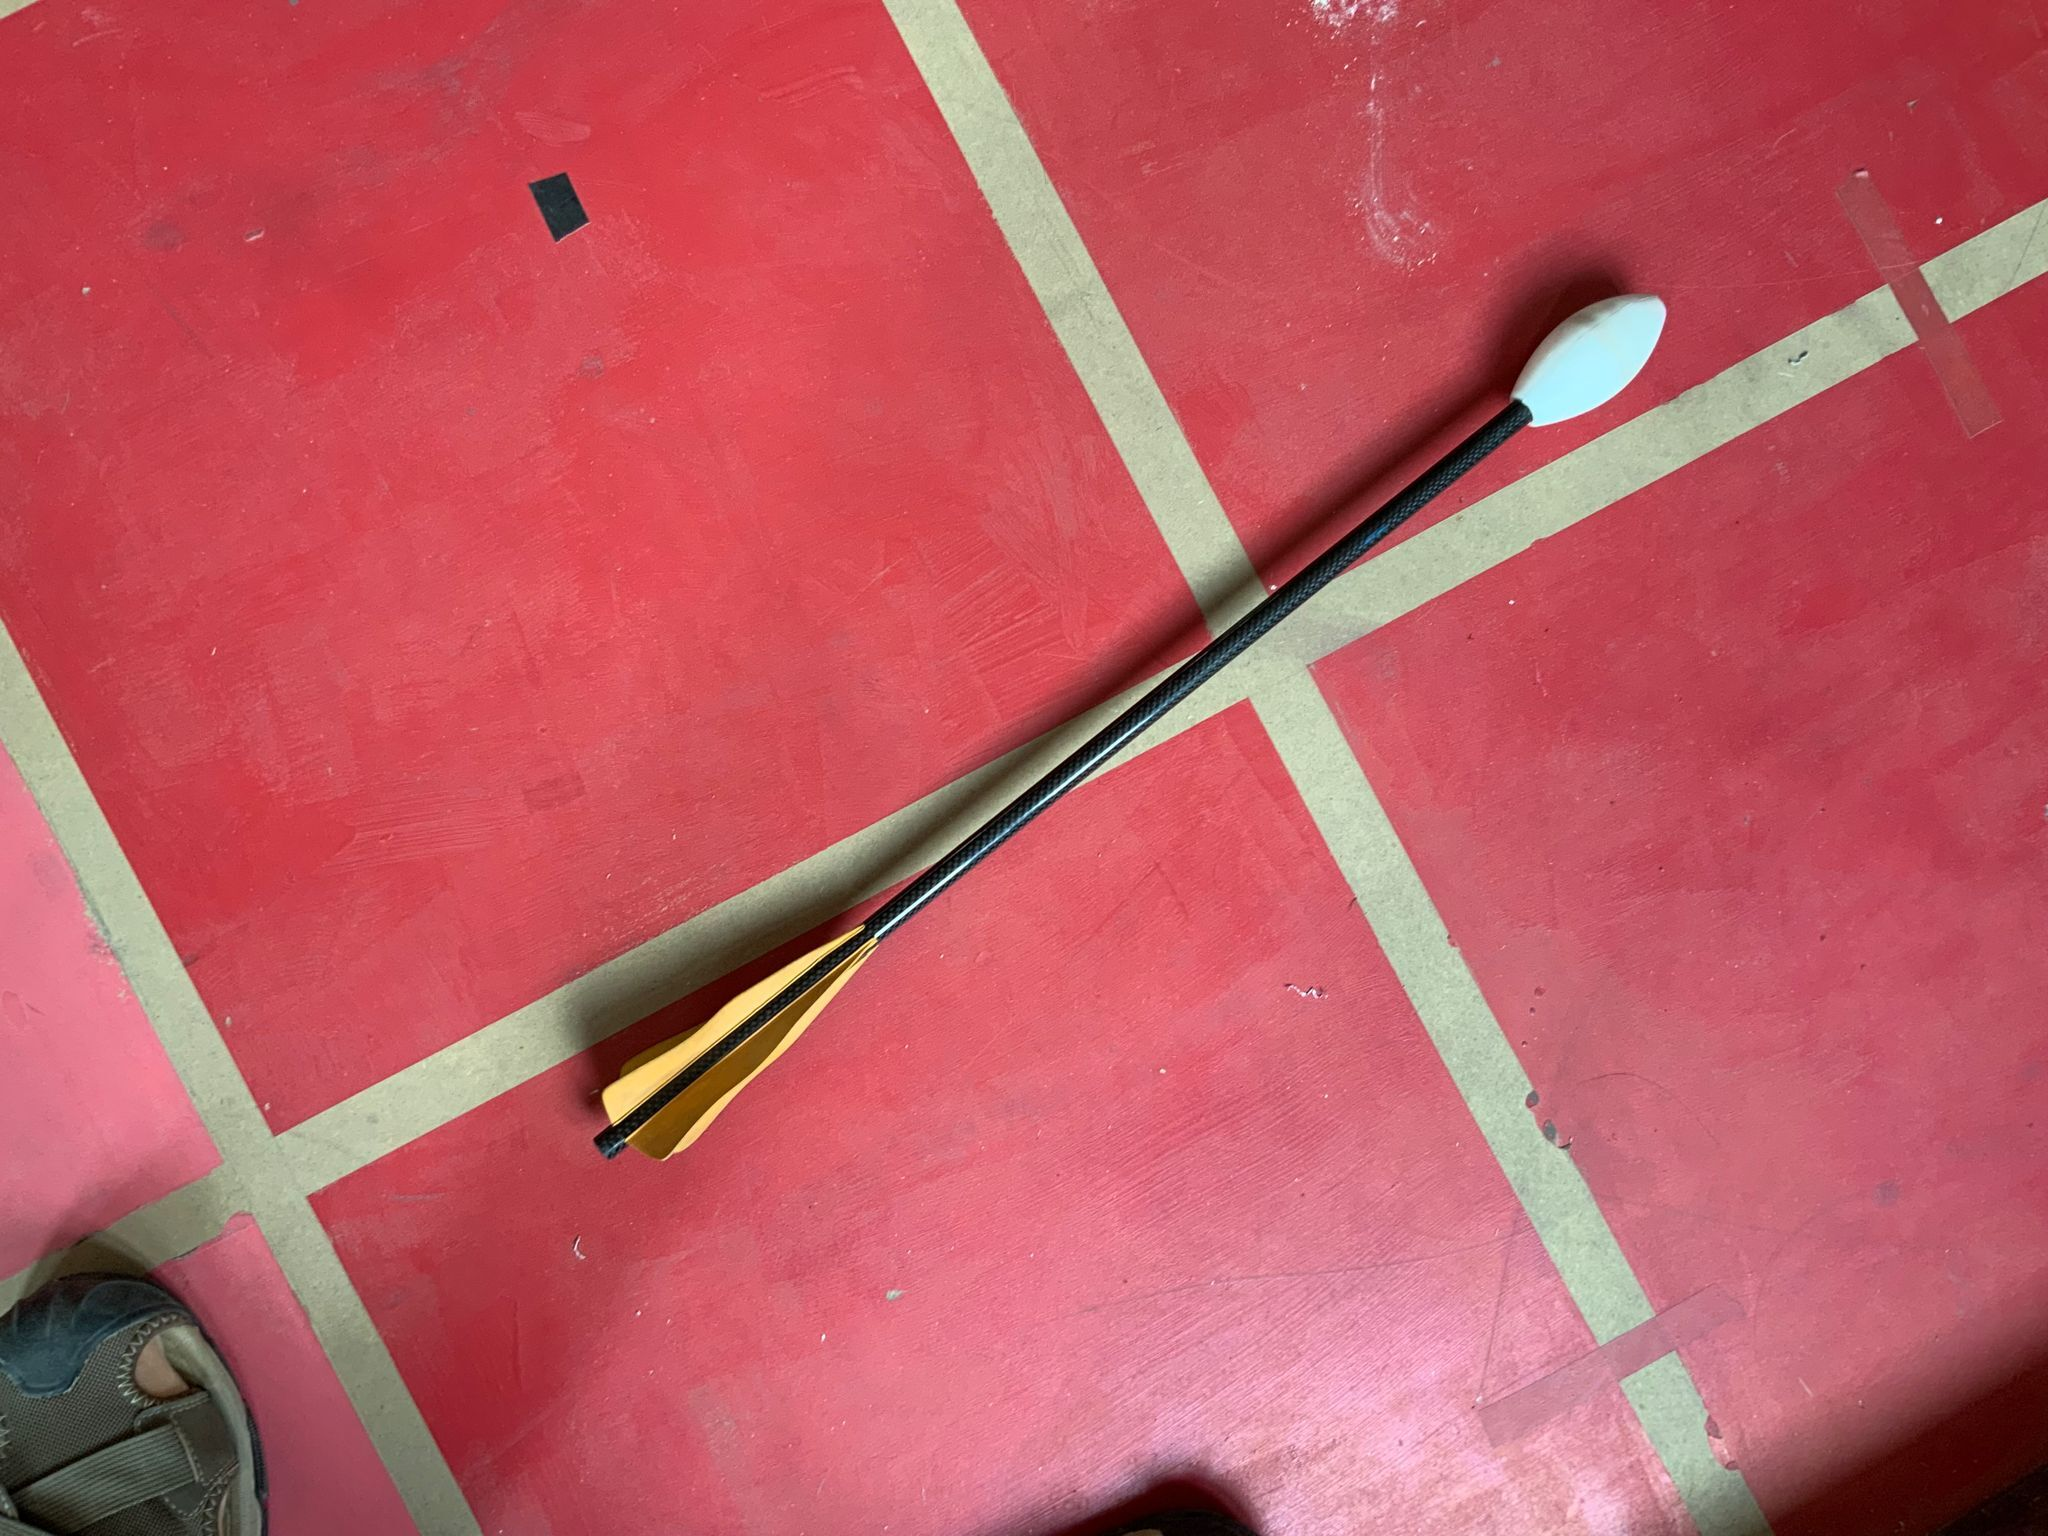arrow: (592, 292, 1671, 1162)
arrowFront: (1505, 294, 1671, 431)
